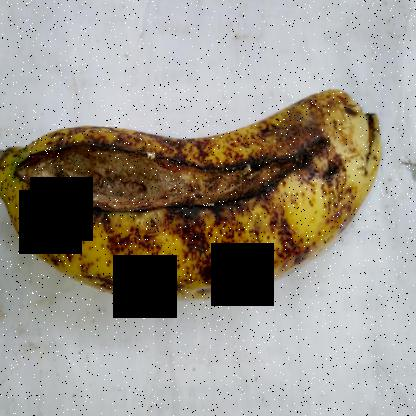rotten: (2, 80, 321, 237)
